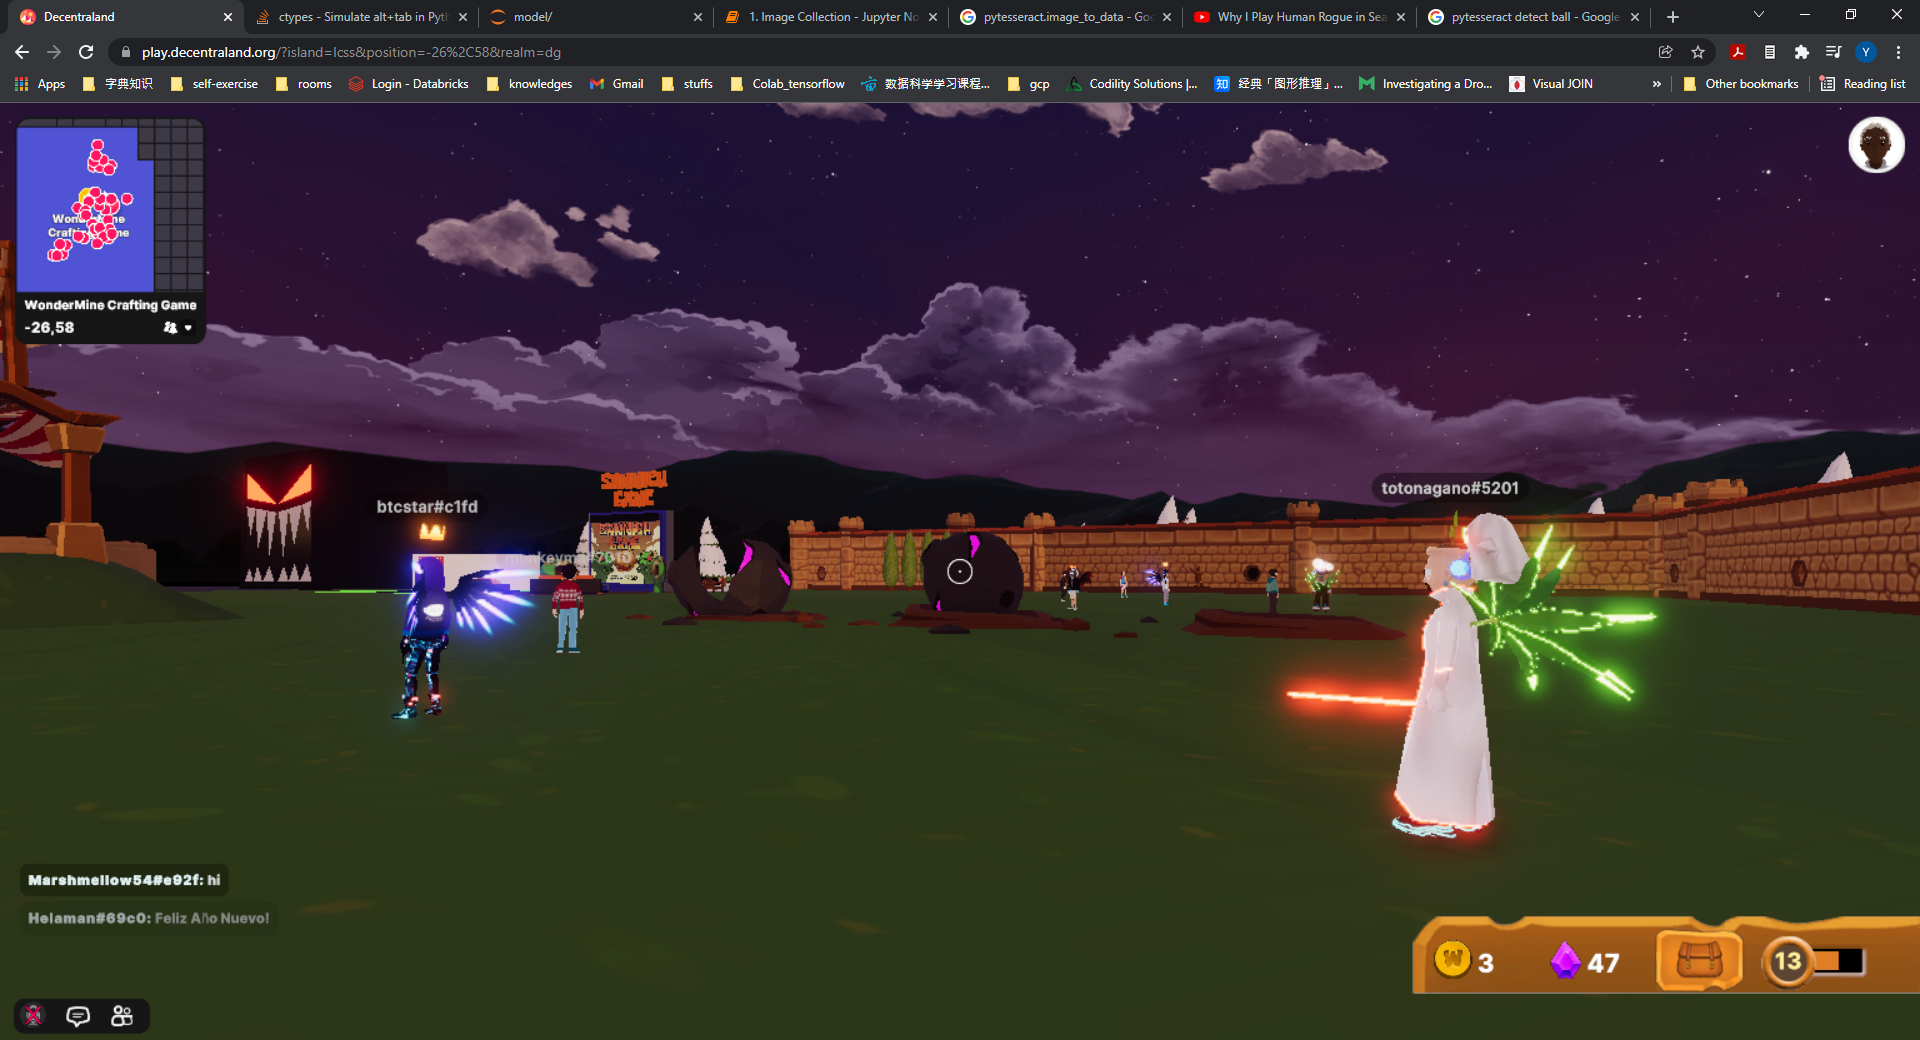black_ball: (916, 519, 1041, 634)
